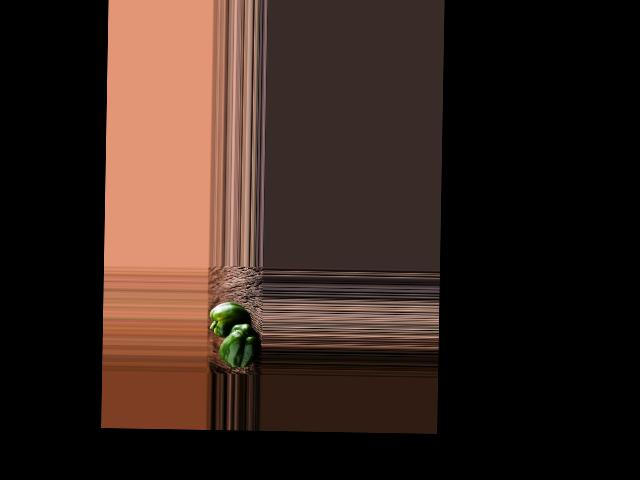bell_pepper: (218, 321, 257, 367)
